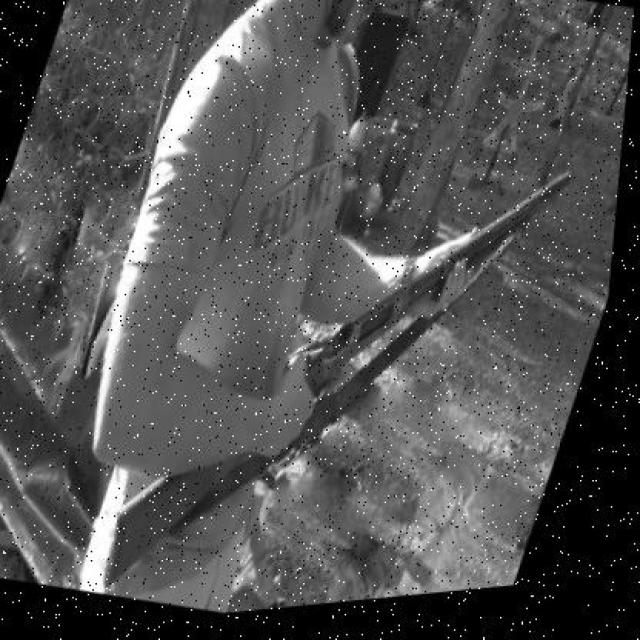weapon: (79, 168, 575, 593)
